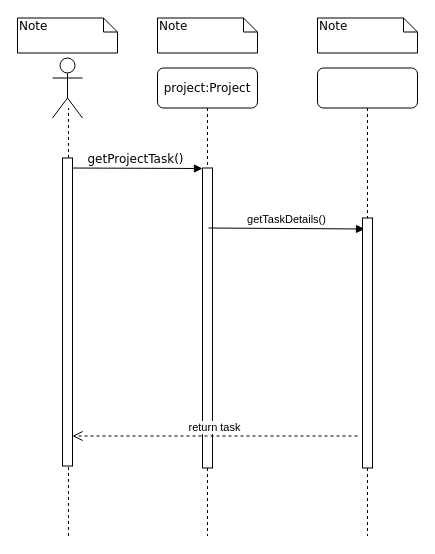
This 435x554 diagram has some shape labels left out. The shapes that lost their labels are listed below. From the top down, each one's box as (x1, y1, x2, y2) in pixels, then its label:
(52, 57, 82, 118): user
(316, 67, 418, 536): task:Task
